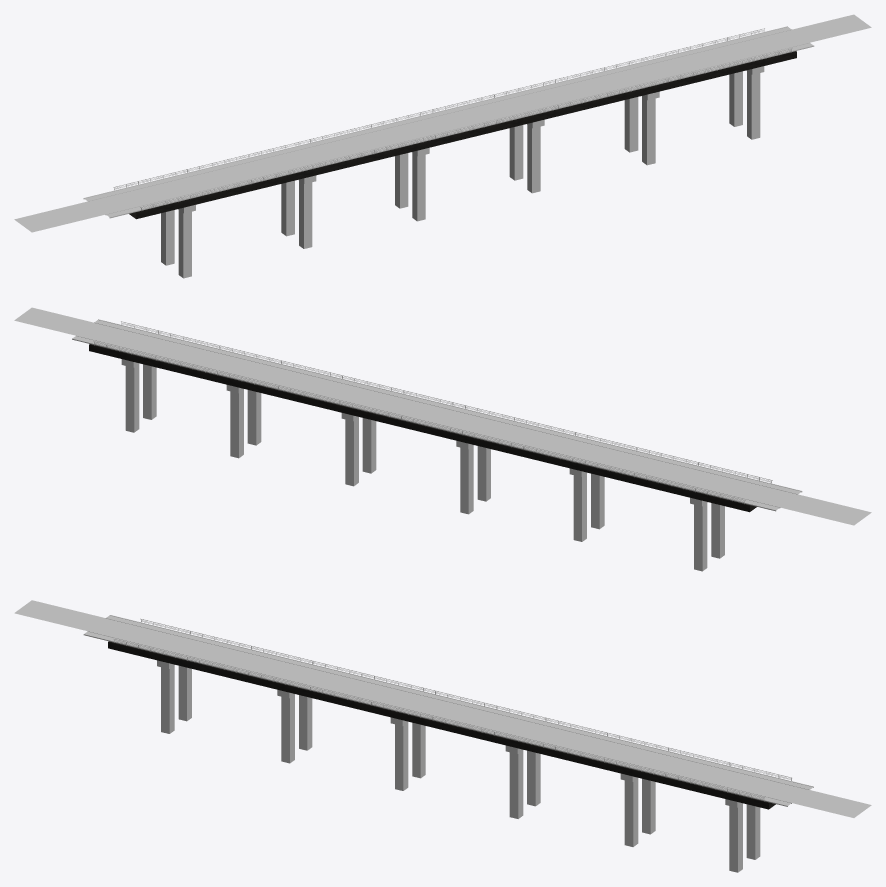
The model's file is Bridge01.fbx.
The picture shows the model from 3 angles, top to bottom: view 1: azimuth 30°, elevation 25°; view 2: azimuth 150°, elevation 25°; view 3: azimuth 330°, elevation 25°; orthographic projection.
Visible parts, largest first — view 1: Bridge01; view 2: Bridge01; view 3: Bridge01.
Part boxes in pixels (<box>): Bridge01: <box>14,14,871,278</box>; Bridge01: <box>14,307,871,571</box>; Bridge01: <box>14,600,871,872</box>.
Bounding box in the file's own units: 27016 × 2584 × 1562.
